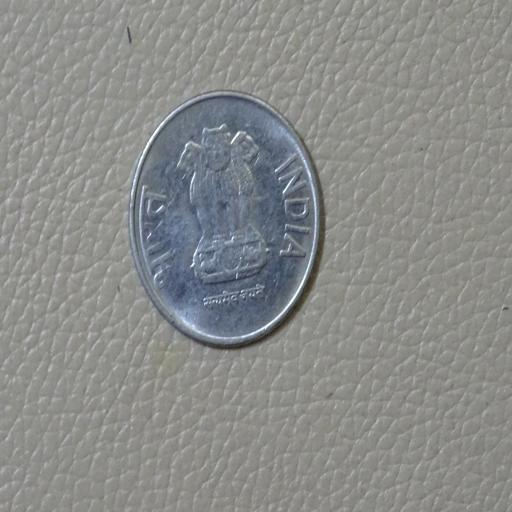rupee2: (122, 87, 325, 347)
